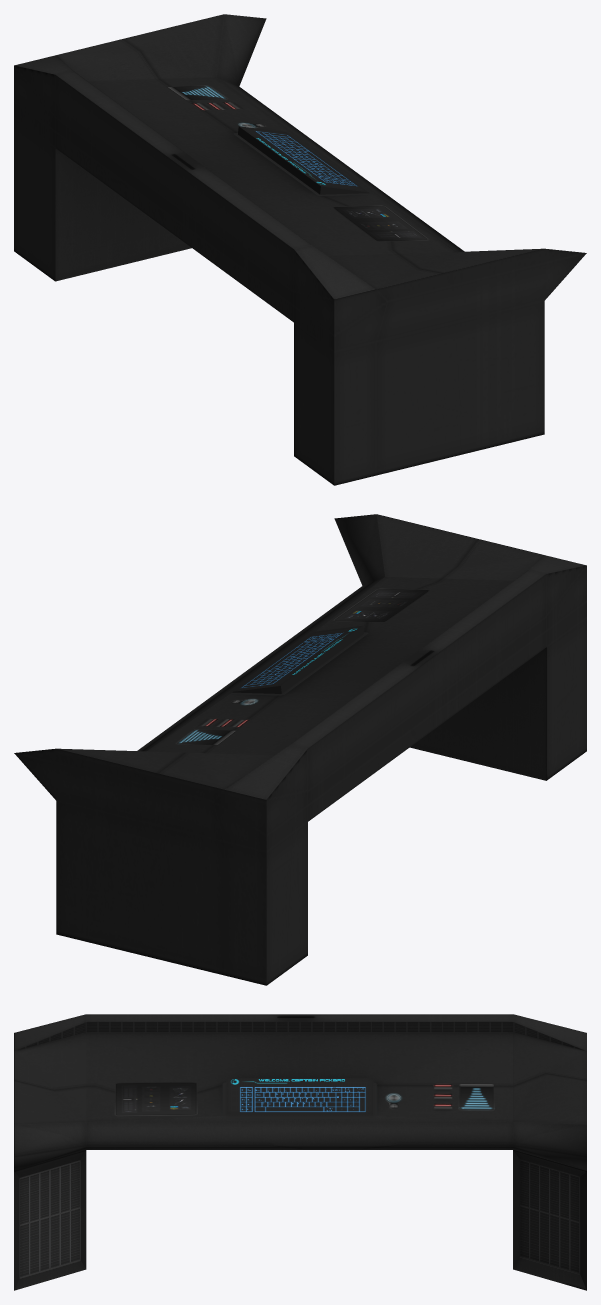
Rendered from BridgeDesk.fbx.
The picture shows the model from 3 angles, top to bottom: view 1: azimuth 30°, elevation 25°; view 2: azimuth 150°, elevation 25°; view 3: azimuth 270°, elevation 25°; orthographic projection. The views are drawn at different scales.
Visible parts, largest first — view 1: Desk1; view 2: Desk1; view 3: Desk1.
Boxes of the visible parts, box(x1,y1,x2,y2) form: Desk1: box(14, 14, 586, 485); Desk1: box(14, 514, 586, 985); Desk1: box(14, 1014, 586, 1290).
Bounding box in the file's own units: 1.82 × 1.42 × 3.99.
